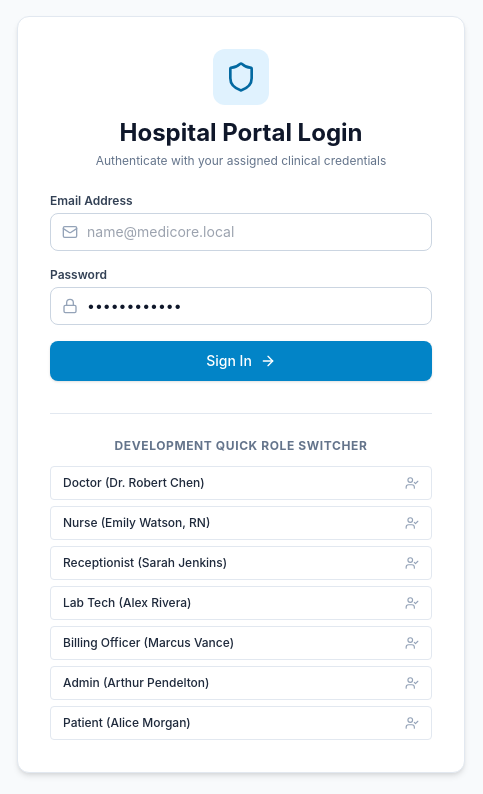
Test: Frontend Login Page & Role Selection (MC-01) › populates credentials when quick role switcher button is clicked
Step 1. Click the button "Doctor (Dr. Robert Chen)" → (134, 482), box [50,466,432,500]
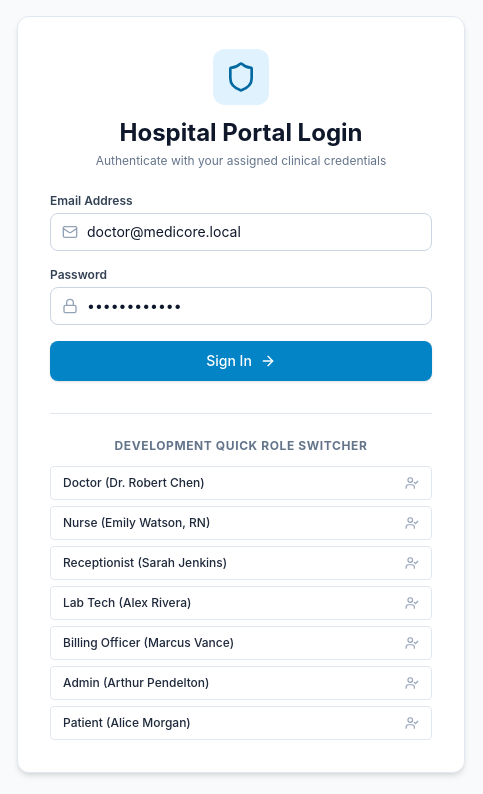
expect the field labelled "Email Address" holds "doctor@medicore.local": met, box [50,213,432,251]
